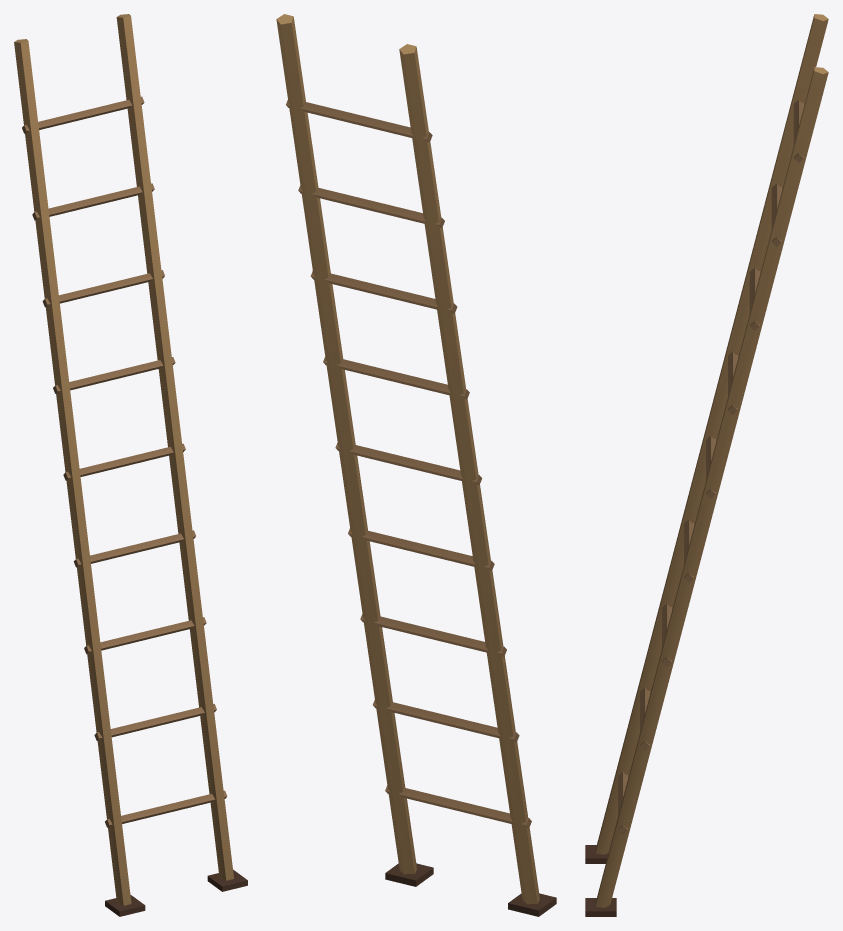
Rendered from scaffold_ladder.glb.
The picture shows the model from 3 angles, left to right: view 1: azimuth 30°, elevation 25°; view 2: azimuth 150°, elevation 25°; view 3: azimuth 270°, elevation 25°; orthographic projection. The views are drawn at different scales.
Visible parts, largest first — view 1: scaffold_ladder; view 2: scaffold_ladder; view 3: scaffold_ladder.
Boxes of the visible parts, box(x1,y1,x2,y2) form: scaffold_ladder: box(14, 14, 247, 916); scaffold_ladder: box(276, 14, 556, 916); scaffold_ladder: box(585, 14, 828, 916).
Bounding box in the file's own units: 0.5 × 2.95 × 0.7753.
